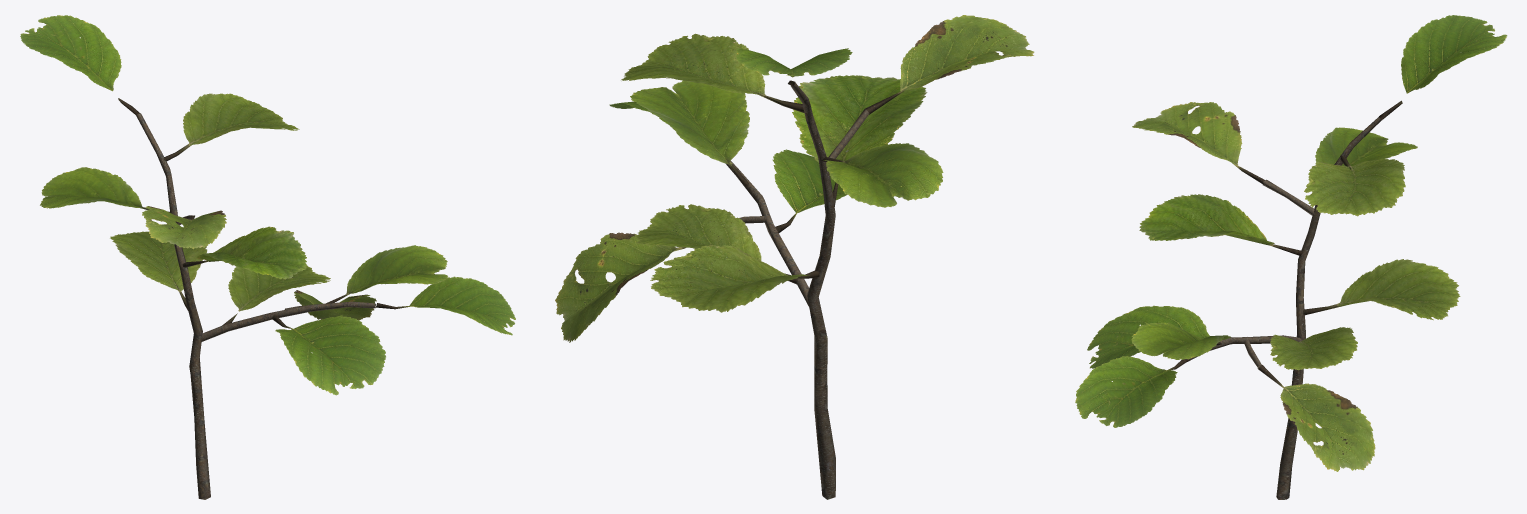
Rendered from SM_BlackAlder_Seedling_01.gltf.
The picture shows the model from 3 angles, left to right: view 1: azimuth 30°, elevation 25°; view 2: azimuth 150°, elevation 25°; view 3: azimuth 270°, elevation 25°; orthographic projection. The views are drawn at different scales.
Parts seen in each view (by area): view 1: SM_BlackAlder_Seedling_01; view 2: SM_BlackAlder_Seedling_01; view 3: SM_BlackAlder_Seedling_01.
Part boxes in pixels (x1=…): SM_BlackAlder_Seedling_01: x1=20, y1=15, x2=515, y2=499; SM_BlackAlder_Seedling_01: x1=555, y1=15, x2=1034, y2=499; SM_BlackAlder_Seedling_01: x1=1075, y1=15, x2=1507, y2=499.
Bounding box in the file's own units: 0.3802 × 0.4164 × 0.3801.
1 material, 1 textured.
